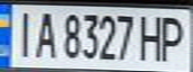2: (96, 11, 121, 62)
3: (78, 10, 100, 61)
7: (115, 11, 139, 61)
8: (57, 9, 81, 60)
A: (30, 8, 60, 60)
H: (136, 11, 166, 62)
I: (6, 7, 36, 60)
P: (157, 11, 190, 62)
